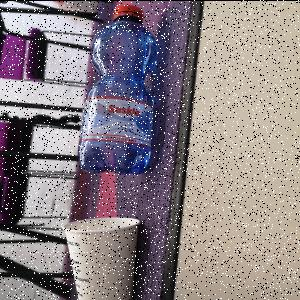Cup: (62, 217, 143, 300)
Plastic-bottle: (80, 4, 160, 176)
